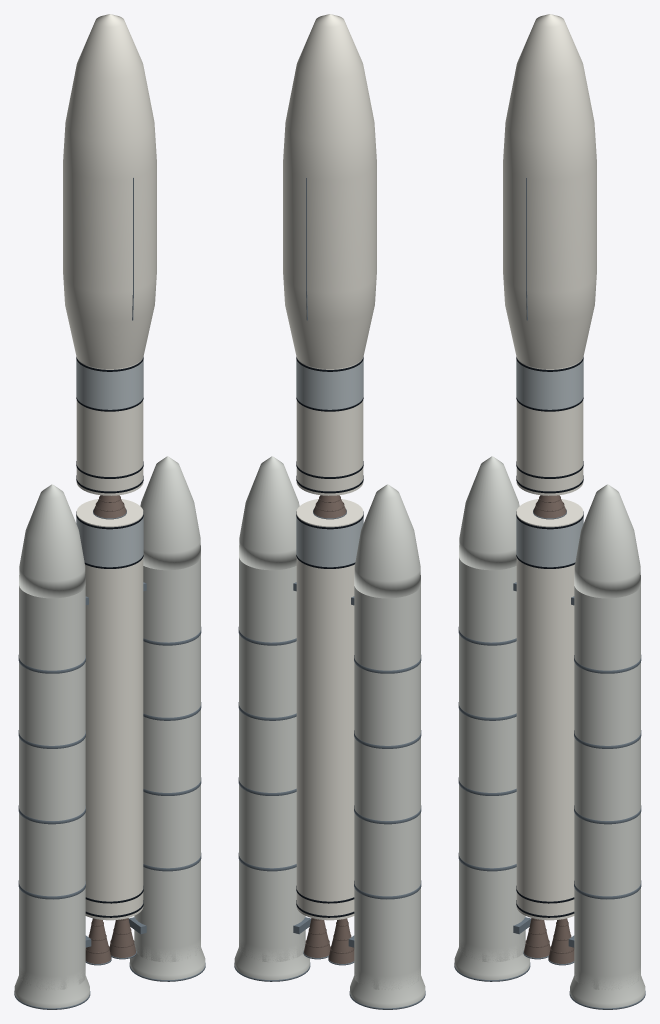
The model's file is voyager_2_launch.glb.
3 renders of one model, left to right at view 1: azimuth 30°, elevation 25°; view 2: azimuth 150°, elevation 25°; view 3: azimuth 330°, elevation 25°, orthographic.
Parts seen in each view (by area): view 1: titan_srb_l.mesh_Pale_thermal_blanket, titan_srb_r.mesh_Pale_thermal_blanket, titan_stage_1.mesh_Warm_white_enamel, titan_centaur_fairing_l.mesh_Warm_white_enamel, titan_centaur_fairing_r.mesh_Warm_white_enamel, titan_srb_l.nose.mesh_Pale_thermal_blanket, titan_stage_2.mesh_Warm_white_enamel, titan_srb_r.nose.mesh_Pale_thermal_blanket, titan_stage_2.mesh_Satin_aluminum, titan_stage_1.mesh_Satin_aluminum, titan_srb_l.aft_skirt.mesh_Pale_thermal_blanket, titan_srb_r.aft_skirt.mesh_Pale_thermal_blanket (+7 smaller); view 2: titan_srb_l.mesh_Pale_thermal_blanket, titan_srb_r.mesh_Pale_thermal_blanket, titan_stage_1.mesh_Warm_white_enamel, titan_centaur_fairing_l.mesh_Warm_white_enamel, titan_centaur_fairing_r.mesh_Warm_white_enamel, titan_srb_l.nose.mesh_Pale_thermal_blanket, titan_stage_2.mesh_Warm_white_enamel, titan_srb_r.nose.mesh_Pale_thermal_blanket, titan_stage_2.mesh_Satin_aluminum, titan_stage_1.mesh_Satin_aluminum, titan_srb_l.aft_skirt.mesh_Pale_thermal_blanket, titan_srb_r.aft_skirt.mesh_Pale_thermal_blanket (+7 smaller); view 3: titan_srb_r.mesh_Pale_thermal_blanket, titan_srb_l.mesh_Pale_thermal_blanket, titan_stage_1.mesh_Warm_white_enamel, titan_centaur_fairing_r.mesh_Warm_white_enamel, titan_centaur_fairing_l.mesh_Warm_white_enamel, titan_srb_r.nose.mesh_Pale_thermal_blanket, titan_stage_2.mesh_Warm_white_enamel, titan_srb_l.nose.mesh_Pale_thermal_blanket, titan_stage_2.mesh_Satin_aluminum, titan_stage_1.mesh_Satin_aluminum, titan_srb_r.aft_skirt.mesh_Pale_thermal_blanket, titan_srb_l.aft_skirt.mesh_Pale_thermal_blanket (+7 smaller).
Boxes of the visible parts, x1,y1,x2,y2 form: titan_srb_l.mesh_Pale_thermal_blanket: (19,586,85,989); titan_srb_r.mesh_Pale_thermal_blanket: (134,558,200,962); titan_stage_1.mesh_Warm_white_enamel: (76,499,143,920); titan_centaur_fairing_l.mesh_Warm_white_enamel: (63,14,133,368); titan_centaur_fairing_r.mesh_Warm_white_enamel: (110,14,156,366); titan_srb_l.nose.mesh_Pale_thermal_blanket: (19,484,85,598); titan_stage_2.mesh_Warm_white_enamel: (76,358,143,495); titan_srb_r.nose.mesh_Pale_thermal_blanket: (140,456,200,570); titan_stage_2.mesh_Satin_aluminum: (76,359,143,409); titan_stage_1.mesh_Satin_aluminum: (76,517,143,567); titan_srb_l.aft_skirt.mesh_Pale_thermal_blanket: (14,964,89,1008); titan_srb_r.aft_skirt.mesh_Pale_thermal_blanket: (130,936,205,979); titan_srb_l.mesh_Pale_thermal_blanket: (354,586,420,989); titan_srb_r.mesh_Pale_thermal_blanket: (239,558,305,962); titan_stage_1.mesh_Warm_white_enamel: (296,499,363,920); titan_centaur_fairing_l.mesh_Warm_white_enamel: (306,14,376,368); titan_centaur_fairing_r.mesh_Warm_white_enamel: (283,14,329,366); titan_srb_l.nose.mesh_Pale_thermal_blanket: (354,484,420,598); titan_stage_2.mesh_Warm_white_enamel: (296,358,363,495); titan_srb_r.nose.mesh_Pale_thermal_blanket: (239,456,299,570); titan_stage_2.mesh_Satin_aluminum: (296,359,363,409); titan_stage_1.mesh_Satin_aluminum: (296,517,363,567); titan_srb_l.aft_skirt.mesh_Pale_thermal_blanket: (350,964,425,1008); titan_srb_r.aft_skirt.mesh_Pale_thermal_blanket: (234,936,309,979); titan_srb_r.mesh_Pale_thermal_blanket: (574,586,640,989); titan_srb_l.mesh_Pale_thermal_blanket: (459,558,525,962); titan_stage_1.mesh_Warm_white_enamel: (516,499,583,920); titan_centaur_fairing_r.mesh_Warm_white_enamel: (526,14,596,368); titan_centaur_fairing_l.mesh_Warm_white_enamel: (503,14,549,366); titan_srb_r.nose.mesh_Pale_thermal_blanket: (574,484,640,598); titan_stage_2.mesh_Warm_white_enamel: (516,358,583,495); titan_srb_l.nose.mesh_Pale_thermal_blanket: (459,456,519,570); titan_stage_2.mesh_Satin_aluminum: (516,359,583,409); titan_stage_1.mesh_Satin_aluminum: (516,517,583,567); titan_srb_r.aft_skirt.mesh_Pale_thermal_blanket: (570,964,645,1008); titan_srb_l.aft_skirt.mesh_Pale_thermal_blanket: (454,936,529,979).
Size of the model in its own units: 9.53 by 48.8 by 4.33.
